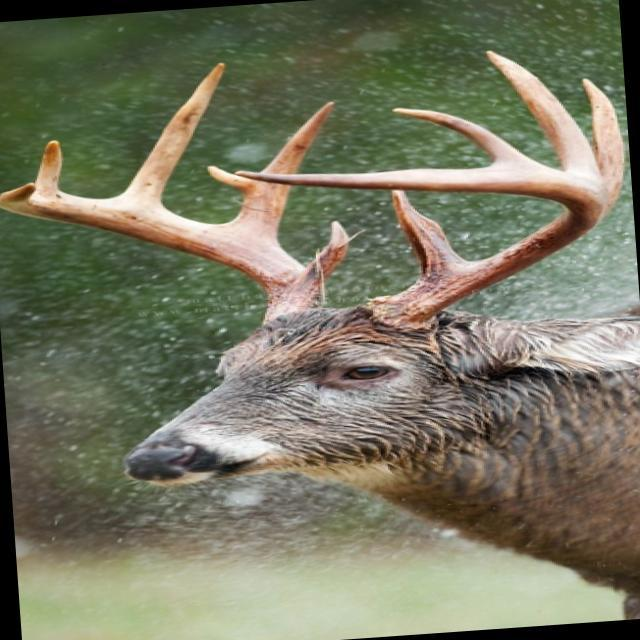L-F: (234, 166, 606, 328)
L-G1: (391, 191, 471, 278)
L-G3: (485, 49, 605, 189)
L-G4: (392, 107, 538, 165)
R-F: (0, 182, 322, 328)
R-G1: (292, 219, 349, 291)
R-G3: (118, 62, 226, 205)
R-G4: (34, 140, 62, 196)
